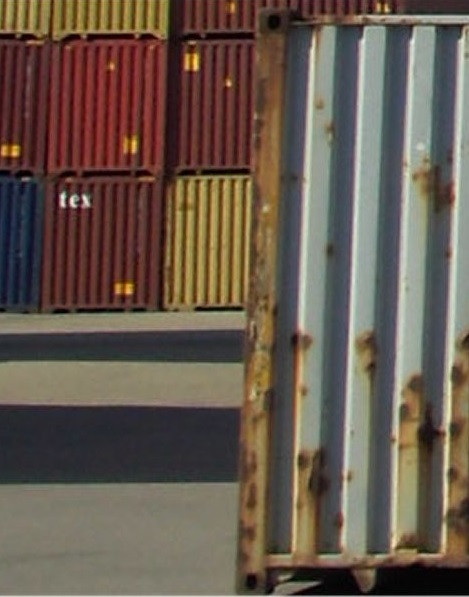container_no_door: (238, 4, 463, 595), (46, 37, 167, 174), (42, 176, 163, 312), (166, 40, 250, 177), (164, 175, 248, 311)
